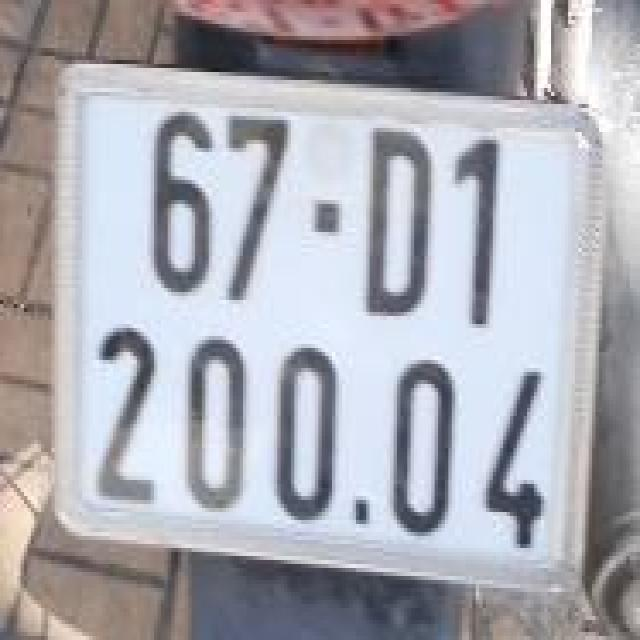0: (267, 328, 349, 532), (390, 336, 462, 548), (176, 330, 252, 522)
1: (447, 124, 508, 336)
2: (80, 308, 162, 520)
4: (472, 352, 565, 580)
6: (144, 108, 226, 304)
7: (219, 90, 294, 302)
D: (358, 118, 447, 318)
